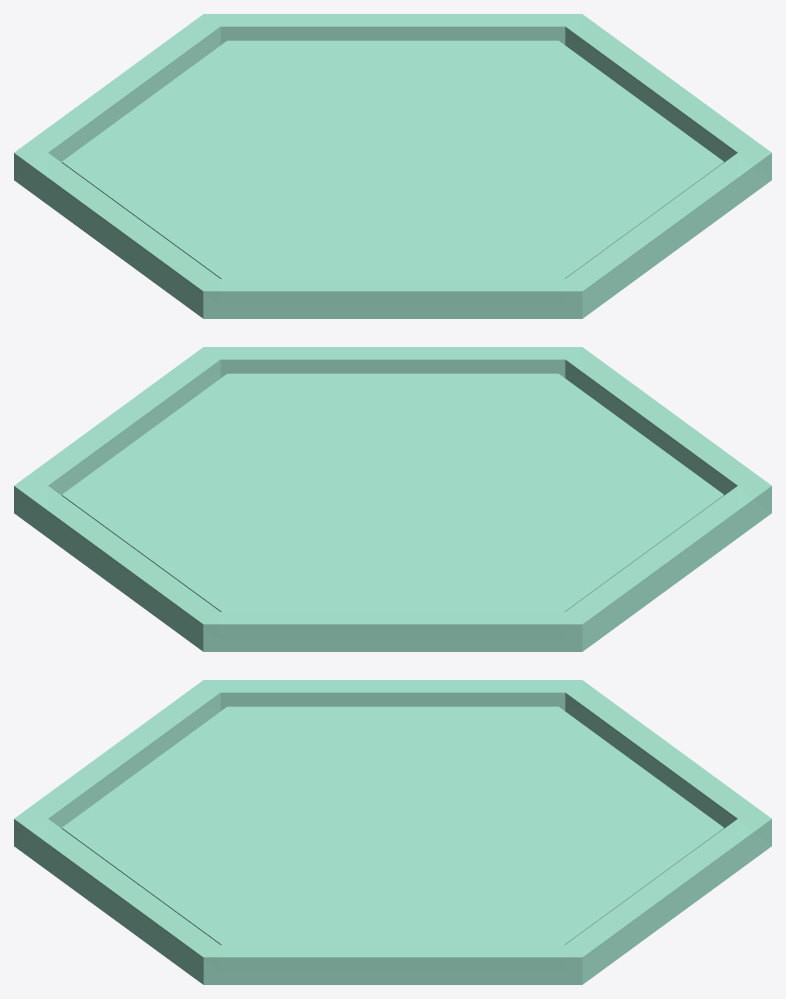
The model's file is tile-hex-blue.glb.
3 views of the same model, one above another, from view 1: azimuth 30°, elevation 25°; view 2: azimuth 150°, elevation 25°; view 3: azimuth 270°, elevation 25° (orthographic).
Visible parts, largest first — view 1: tile; view 2: tile; view 3: tile.
Boxes of the visible parts, box(x1,y1,x2,y2) form: tile: box(14, 14, 771, 318); tile: box(14, 347, 771, 651); tile: box(14, 680, 771, 984).
Size of the model in its own units: 1.73 by 0.08 by 2.
